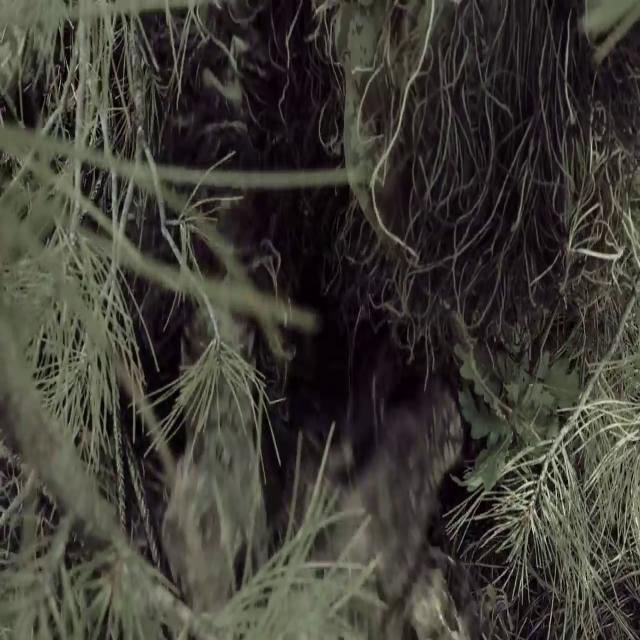Camouflage: (258, 299, 465, 631)
